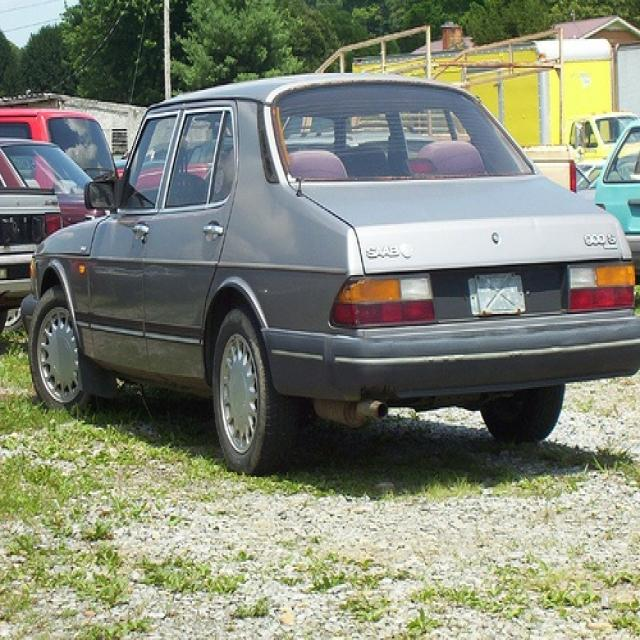car: (18, 64, 639, 473), (0, 105, 118, 190), (0, 187, 64, 331), (2, 136, 108, 220), (594, 119, 639, 278), (568, 114, 639, 156)
